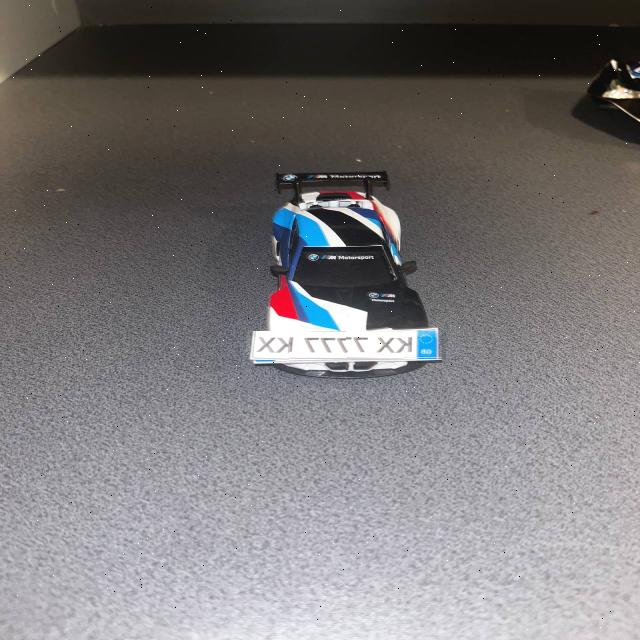KX 7777 KX: (246, 330, 446, 360)
